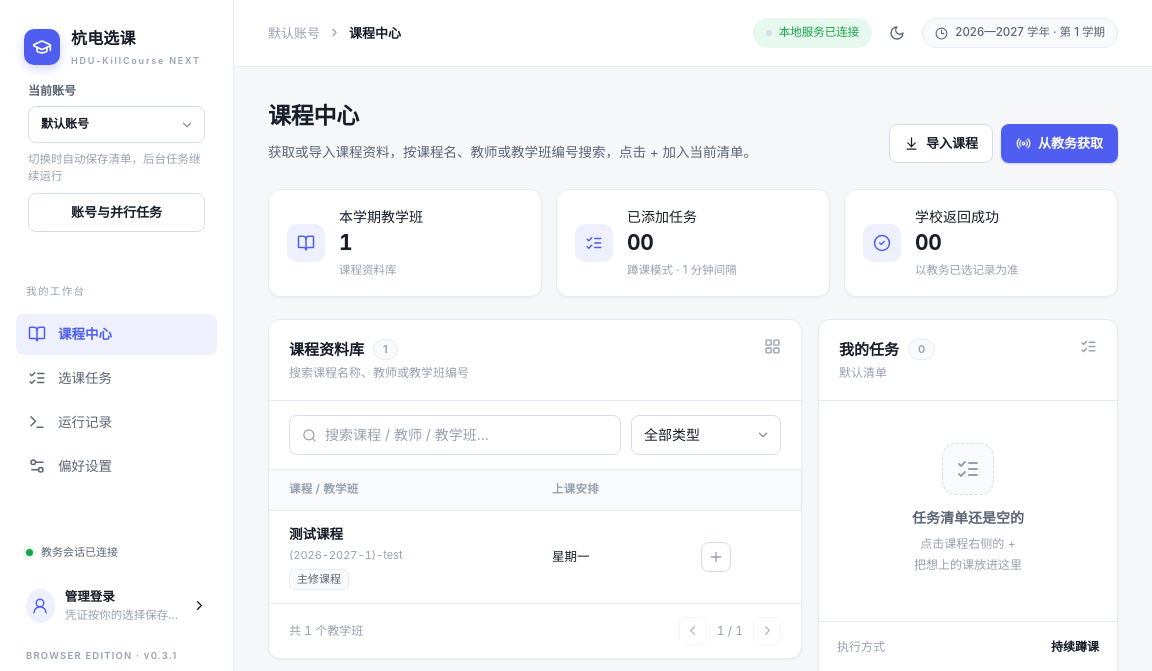
Test: workspace interactions after module extraction › switches all four pages and shows usage instructions
Expected: the button "测试课程" is shown, [289,524,343,545]
Click the button "选课任务" at point(116, 378), box [16,358,217,399]
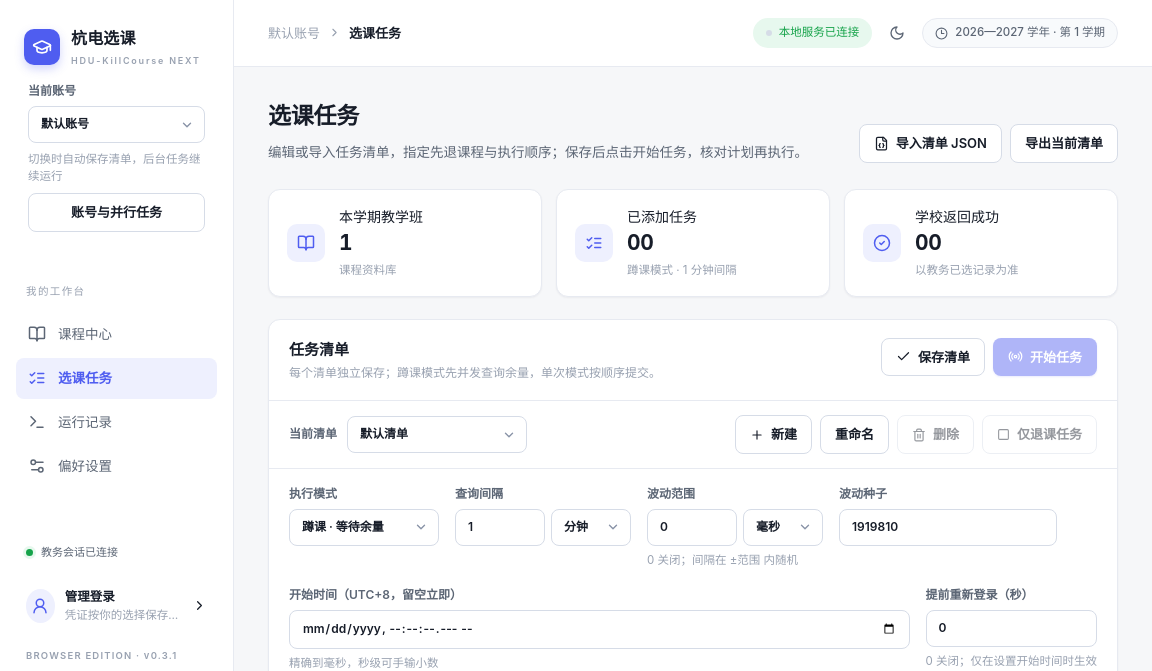
Click the button "偏好设置" at point(116, 466), box [16,446,217,486]
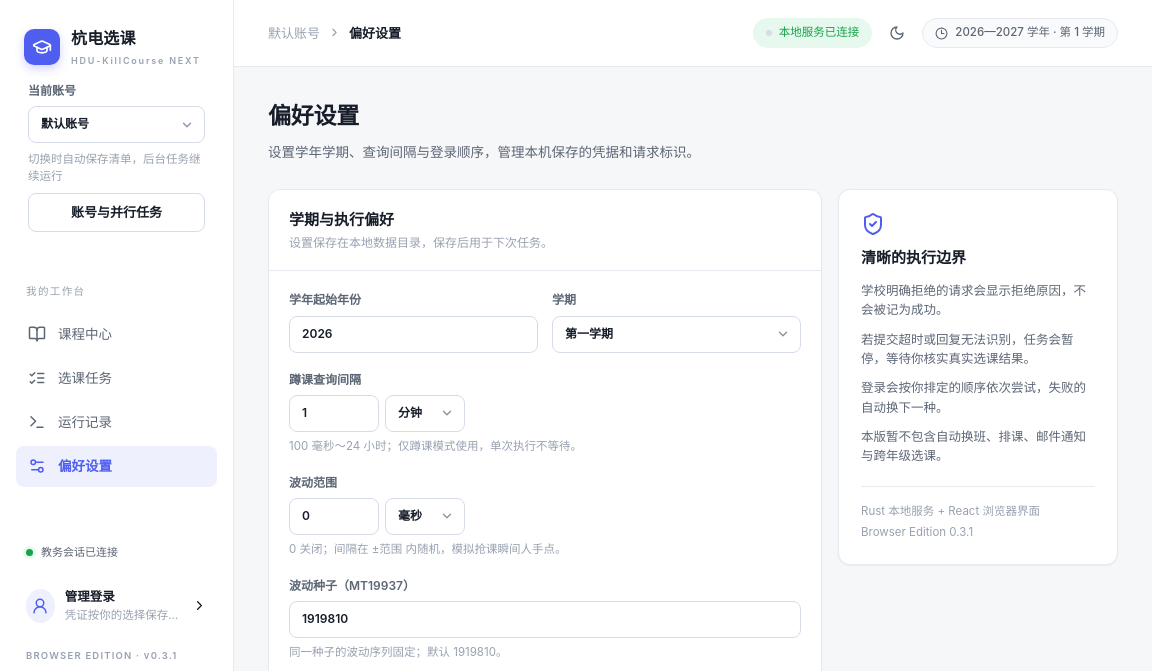
Result: the heading "偏好设置" is shown at [268,102,359,130]
Click the button "运行记录" at point(116, 422), box [16,402,217,443]
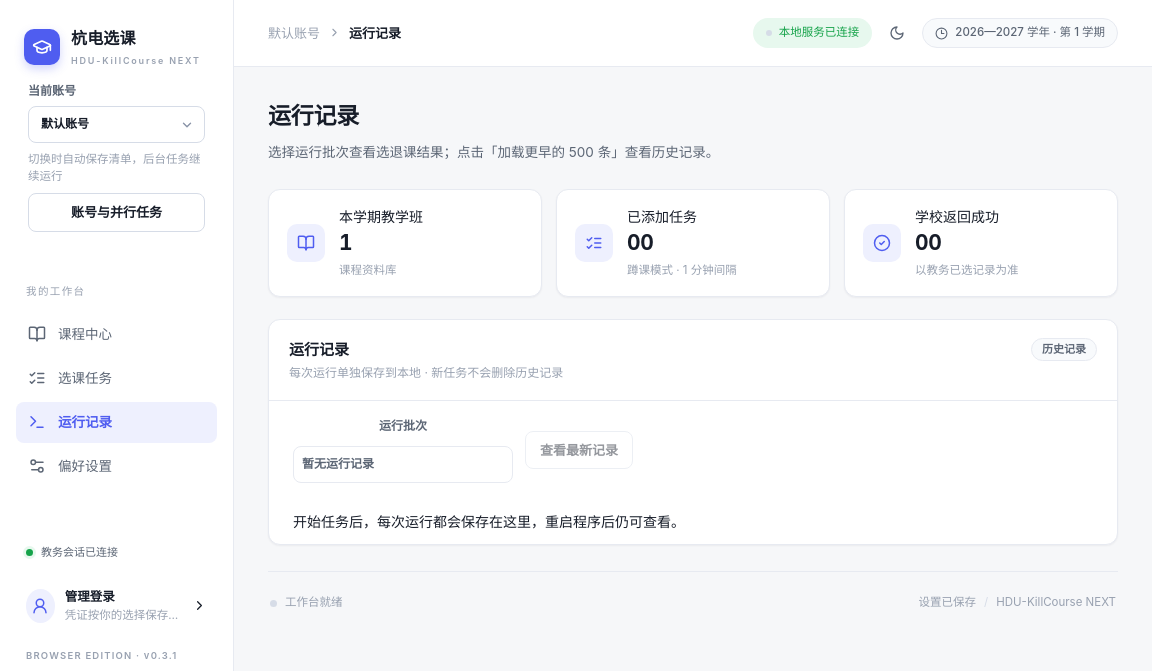
Result: the 1st heading "运行记录" is shown at [268,102,359,130]
Click the button "课程中心" at point(116, 334), box [16,314,217,355]
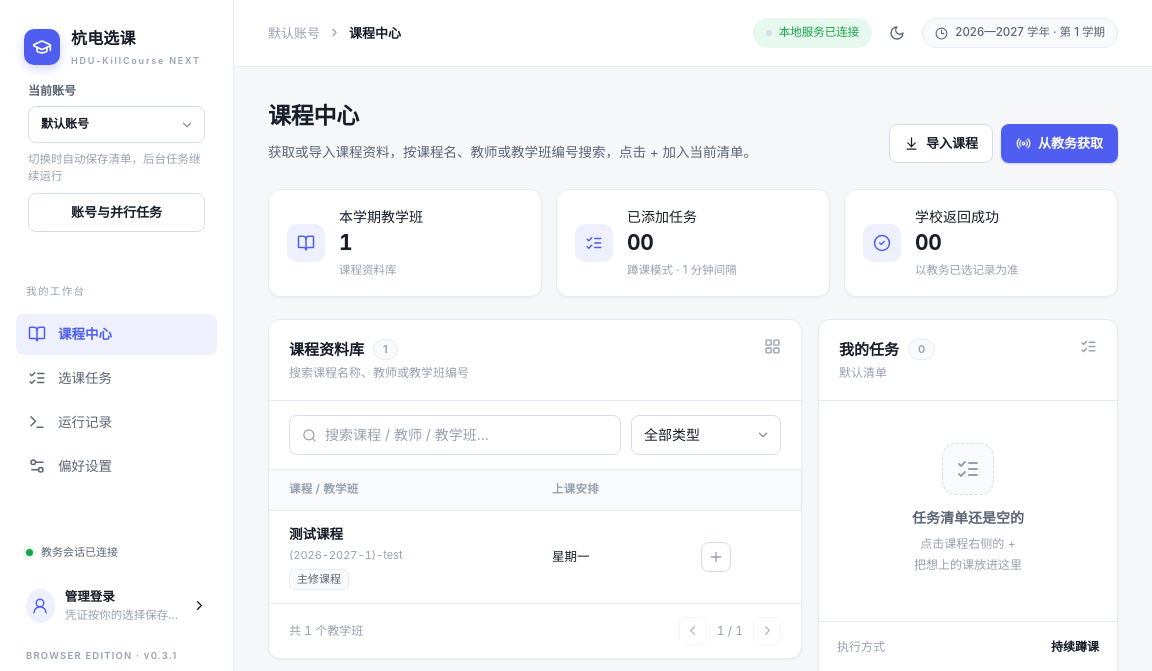
Result: the heading "课程中心" is shown at [268,102,359,130]
Click the button "选课任务" at point(116, 378), box [16,358,217,399]
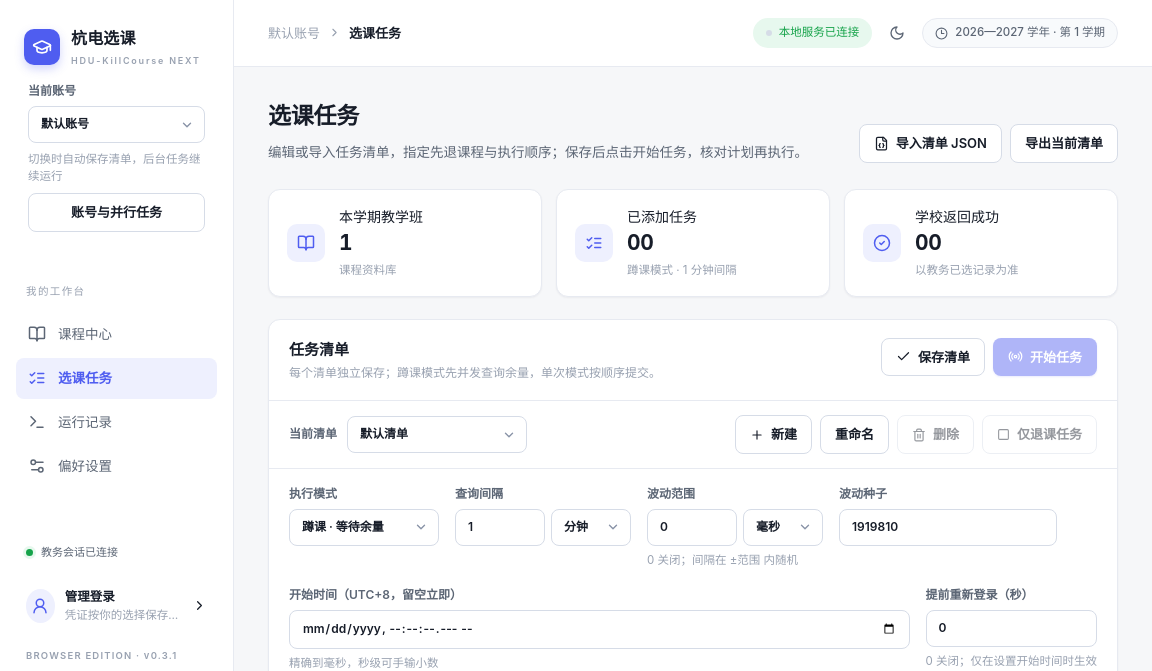
Result: the heading "选课任务" is shown at [268,102,359,130]
